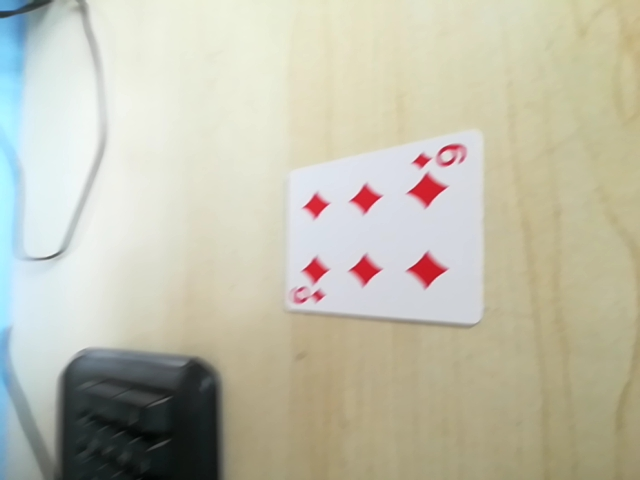fk 6: (410, 138, 470, 173), (287, 281, 331, 311)
